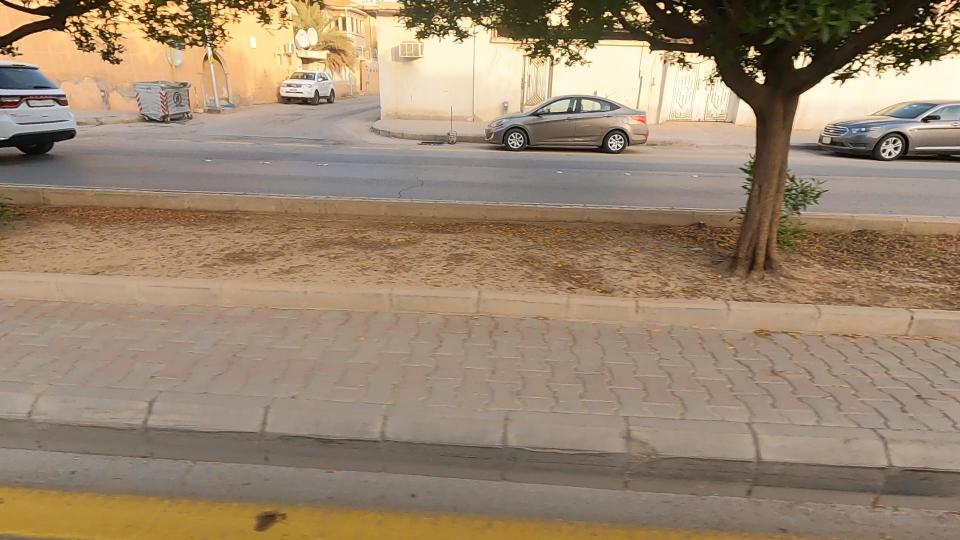CLUTTER_SIDEWALK: (0, 148, 910, 342)
